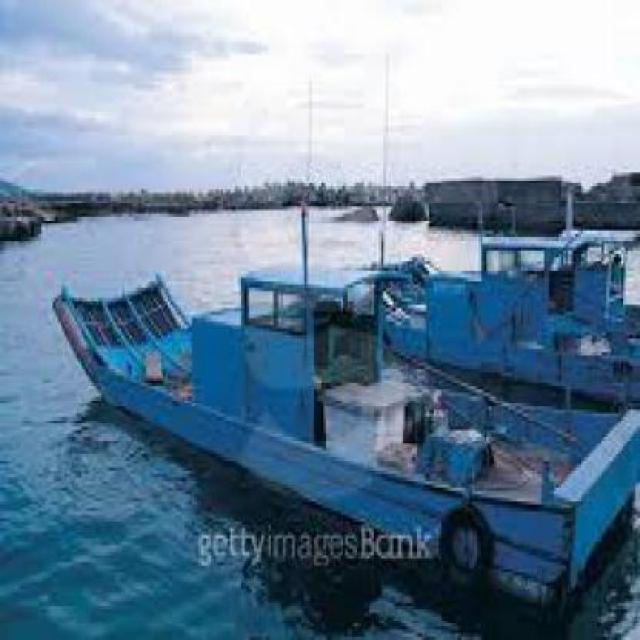fish-b: (43, 262, 639, 614)
